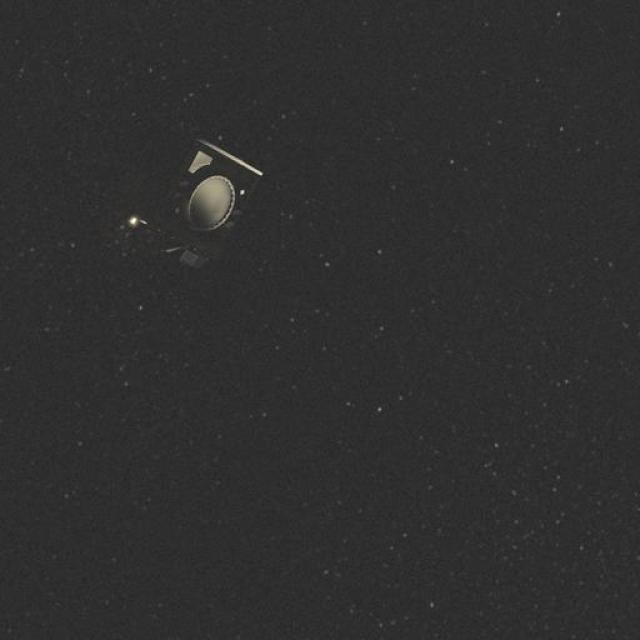proba_3_ocs: (115, 110, 269, 298)
